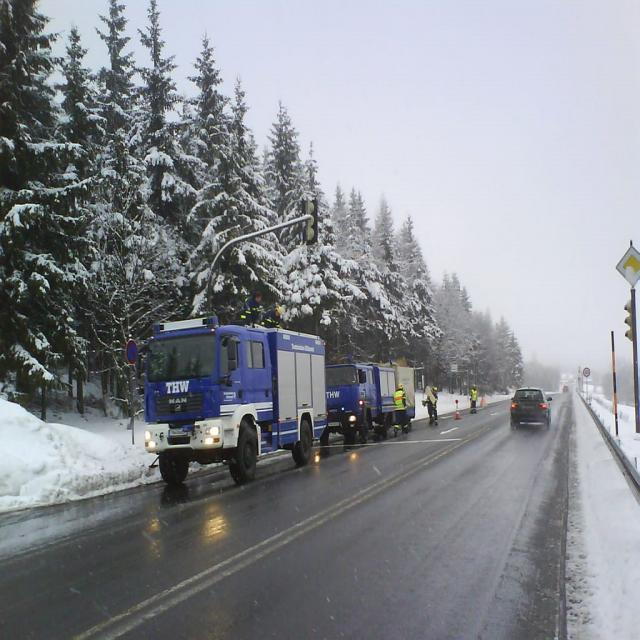truck: (510, 384, 550, 428)
